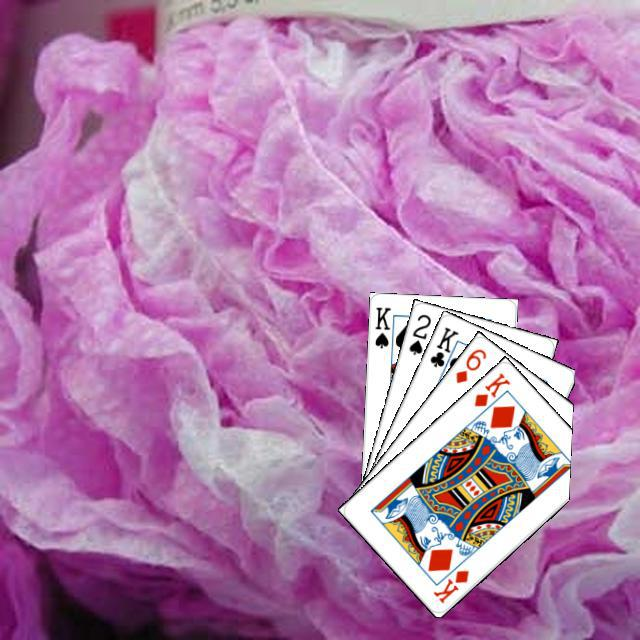2s: (404, 309, 433, 356)
6d: (451, 344, 488, 385)
Kc: (425, 322, 461, 377)
Kd: (469, 368, 512, 408), (428, 565, 471, 605)
Ks: (370, 302, 392, 350)
